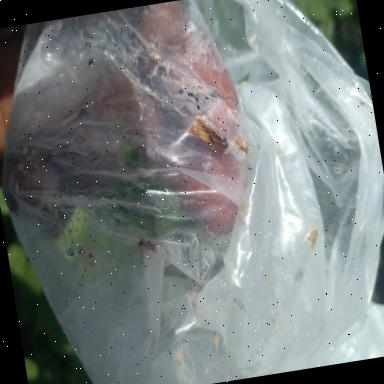pbw: (196, 111, 230, 152)
